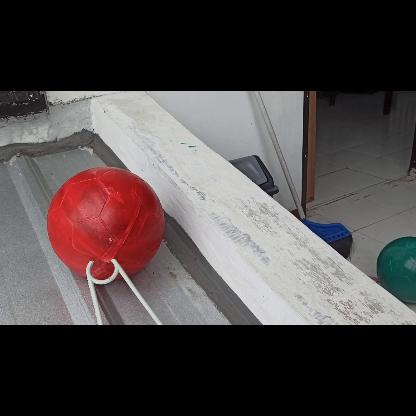red_ball: (47, 166, 162, 280)
